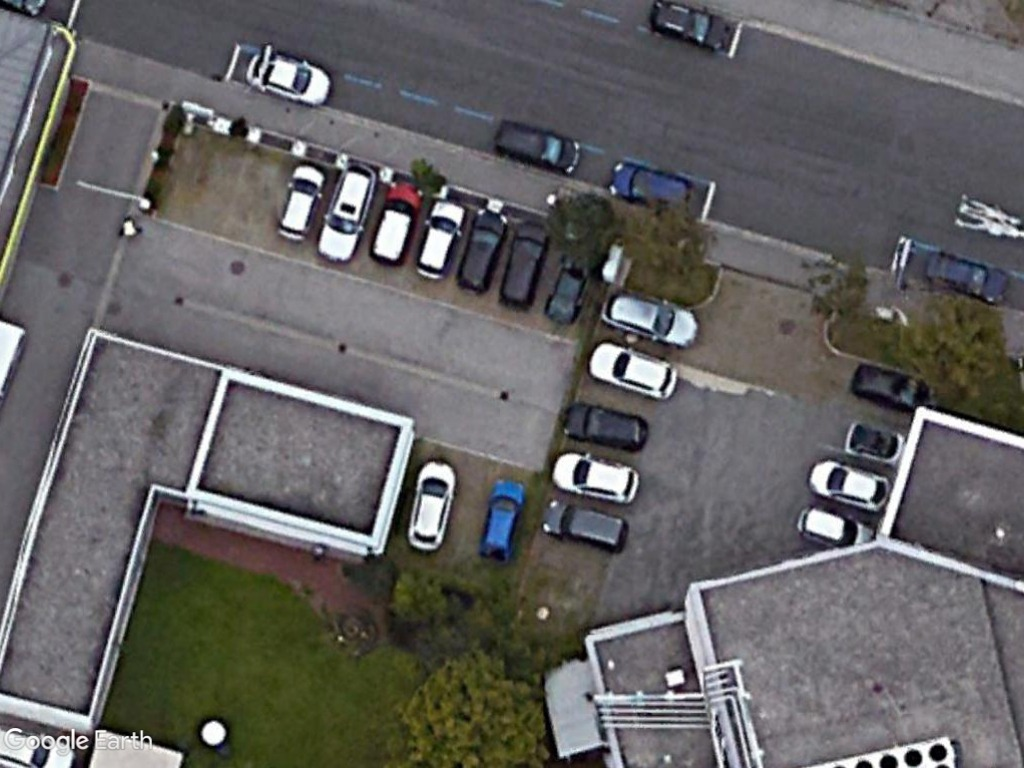car: (314, 156, 378, 267), (582, 336, 684, 404), (598, 286, 701, 353), (491, 213, 557, 315), (239, 45, 338, 110), (603, 154, 701, 219), (489, 116, 586, 179), (537, 494, 632, 557), (401, 454, 460, 555), (451, 203, 514, 296), (544, 448, 646, 505), (807, 452, 896, 515), (407, 192, 467, 285), (473, 471, 530, 567), (368, 174, 427, 265), (557, 399, 653, 454), (272, 159, 329, 247), (645, 0, 729, 58)
